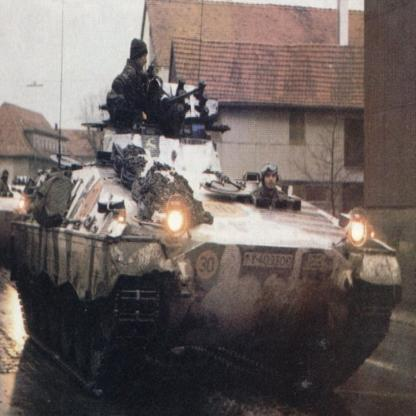Tank: (8, 113, 403, 400)
